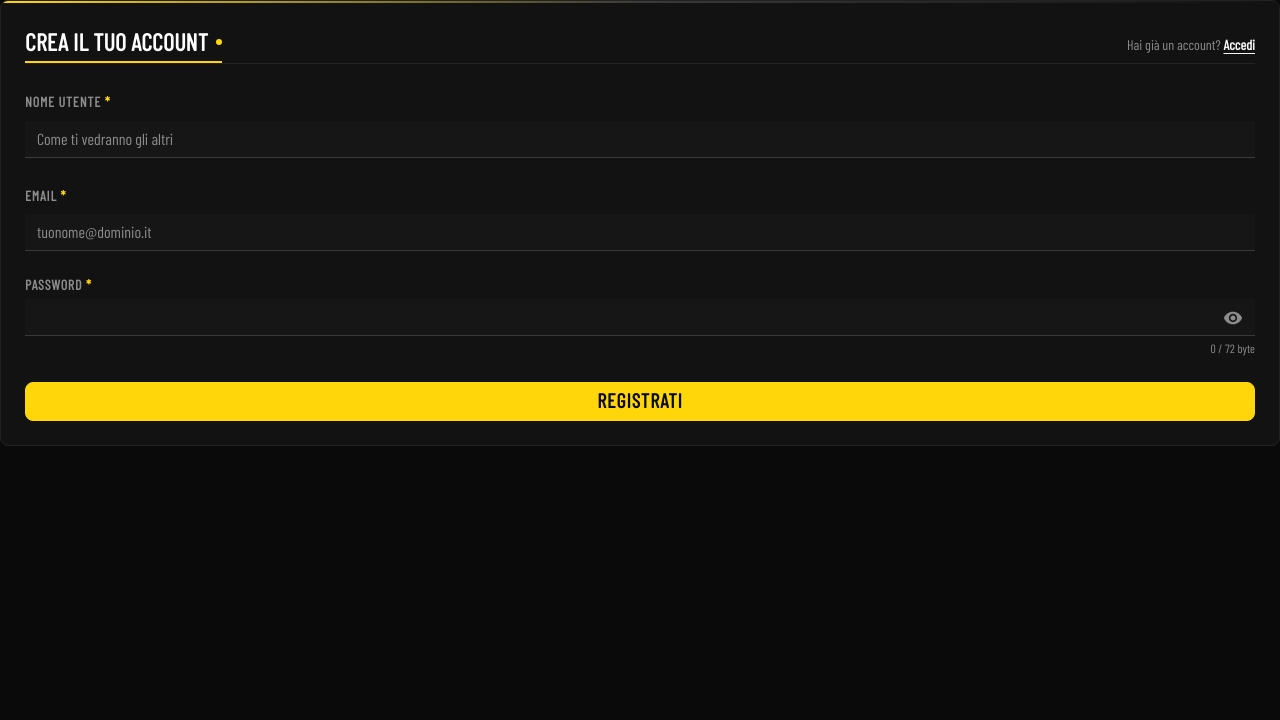
Test: RegisterPage › con i campi vuoti mostra i tre messaggi e non chiama il server
The image size is (1280, 720).
Click the button "Registrati". click: (640, 401)
box: [25, 382, 1255, 421]
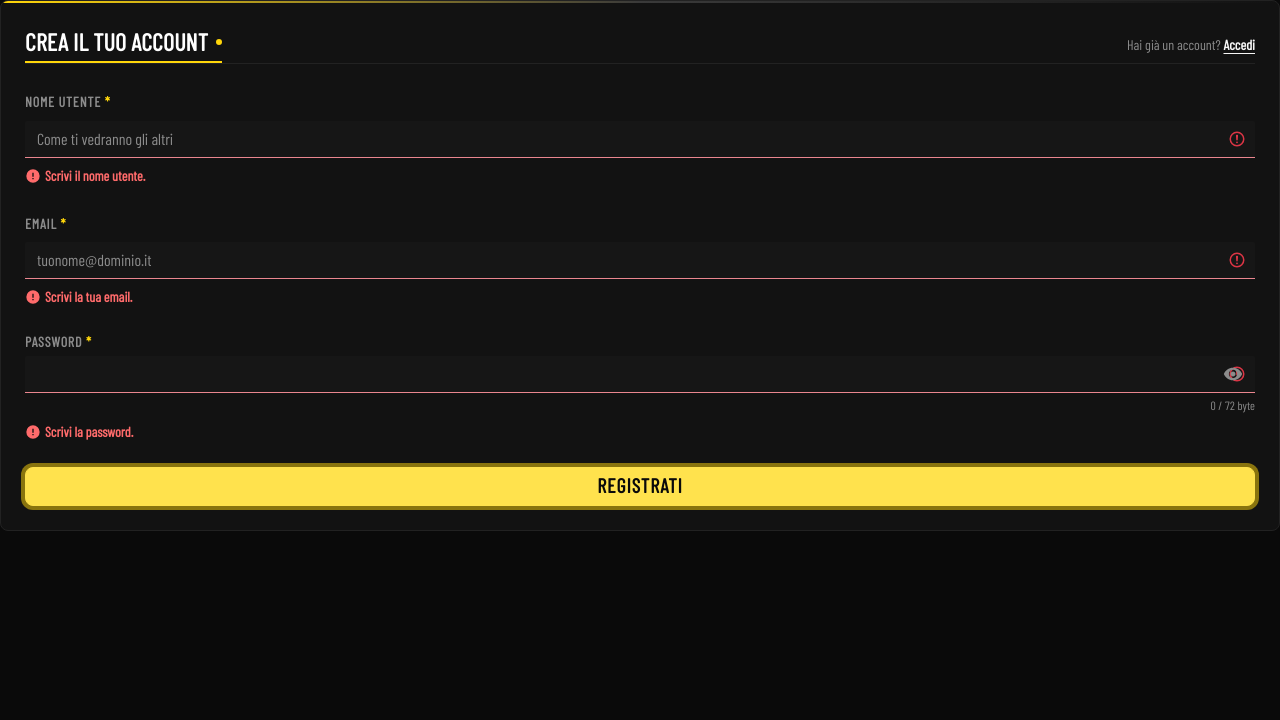
Expected: the text "Scrivi il nome utente." is shown, [45, 166, 145, 186]
Expected: the text "Scrivi la tua email." is shown, [45, 287, 132, 308]
Expected: the text "Scrivi la password." is shown, [45, 422, 134, 443]
